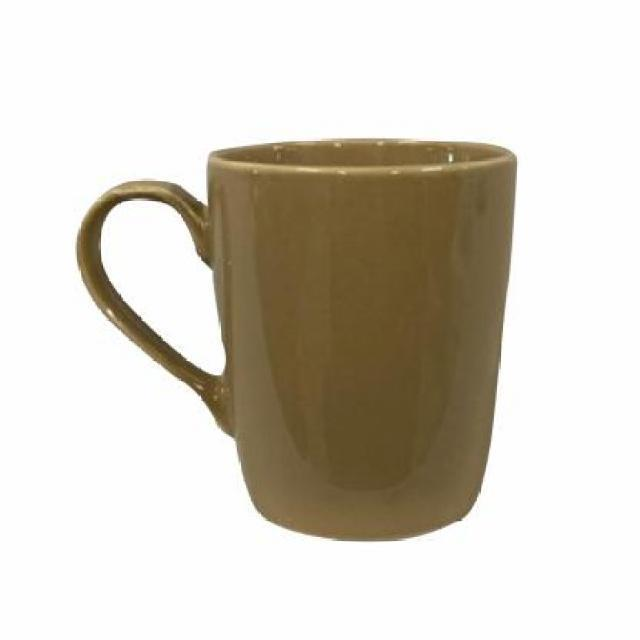taza: (79, 138, 538, 546)
